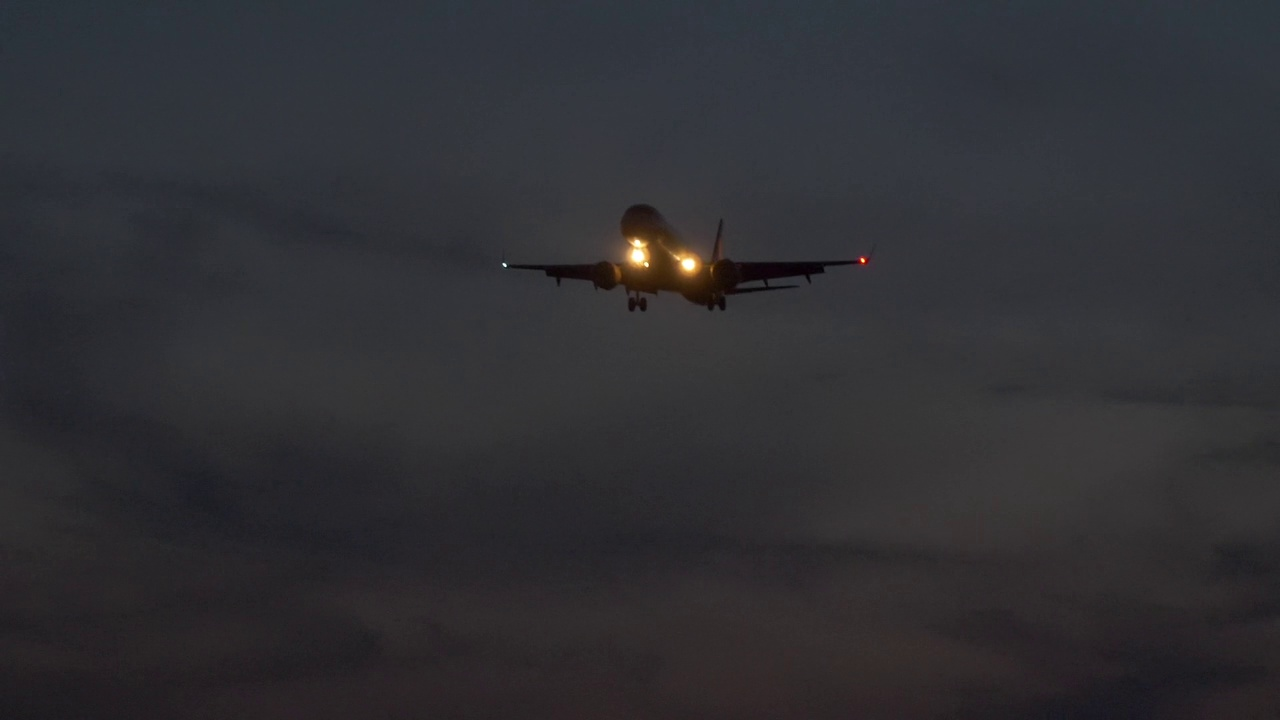plane: (499, 203, 874, 314)
